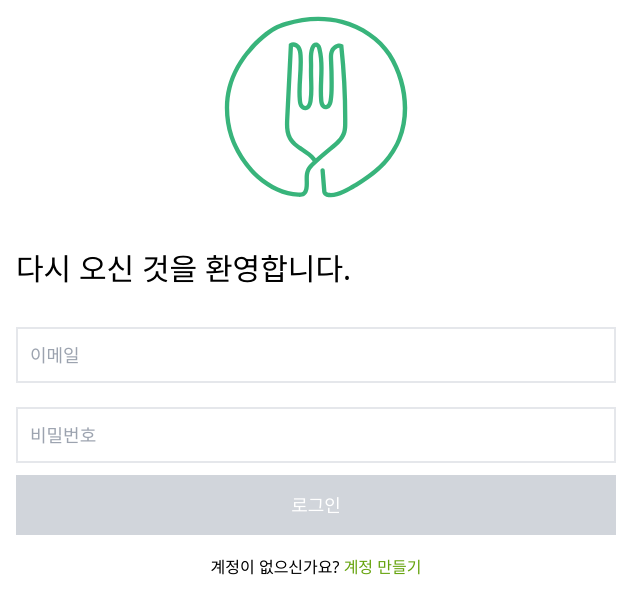
it: <Login /> › 비밀번호의 최소 글자 수를 충족하지 못하면 오류 메시지가 표시되어야 합니다.
Type "test@gmail.com" into the field with placeholder "이메일" at coordinates (316, 355), box [16, 327, 616, 383]
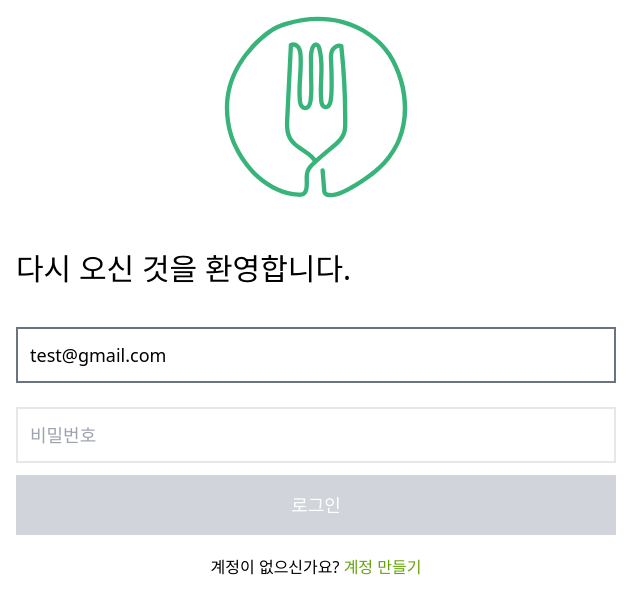
Type "비밀" into the password field with placeholder "비밀번호" at coordinates (316, 435), box [16, 407, 616, 463]
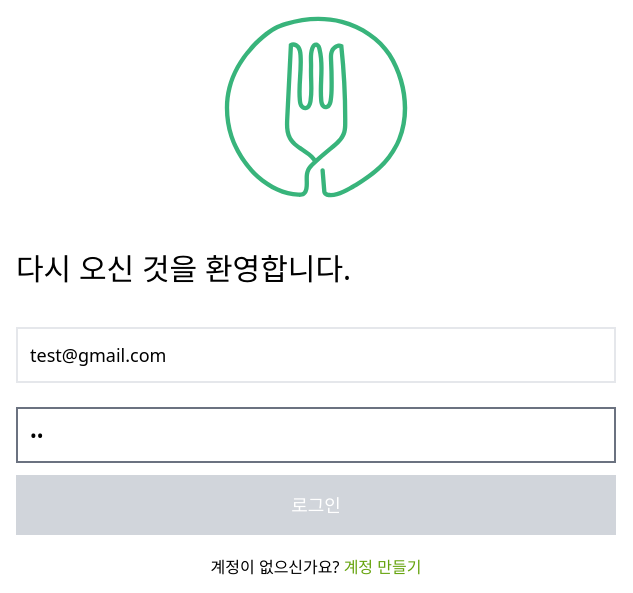
Click the button at coordinates (316, 505), box [16, 475, 616, 535]
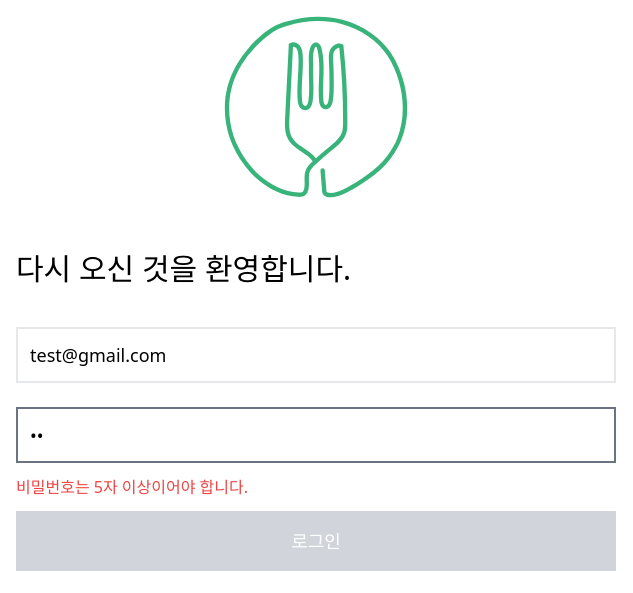
Check: the message reads "비밀번호는 5자 이상이어야 합니다.", box [16, 476, 248, 498]
